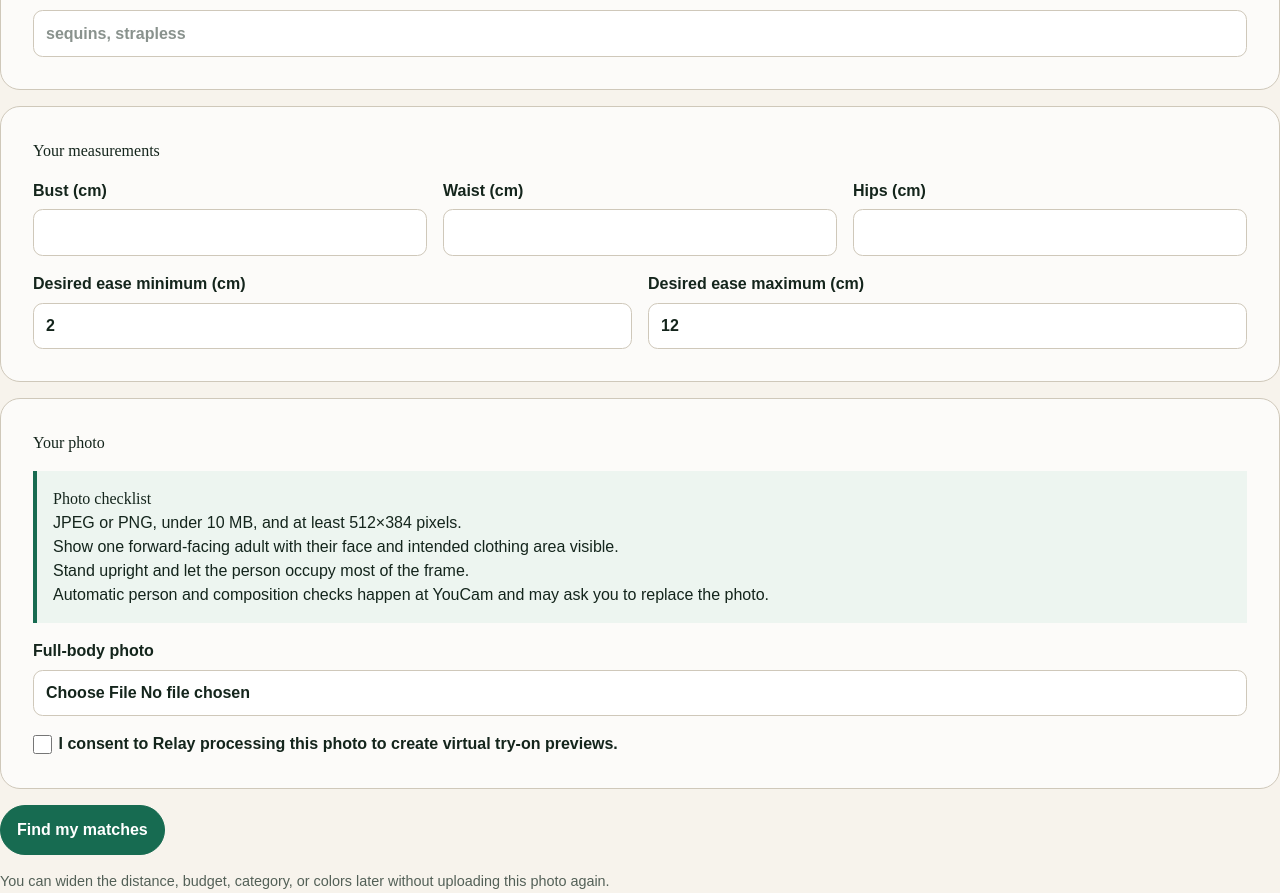
Test: BriefForm › shows inline errors and does not submit when required values are missing
(page scrolled)
Click the button "Find my matches".
click(82, 830)  # box left=0, top=806, right=165, bottom=856
(page scrolled)
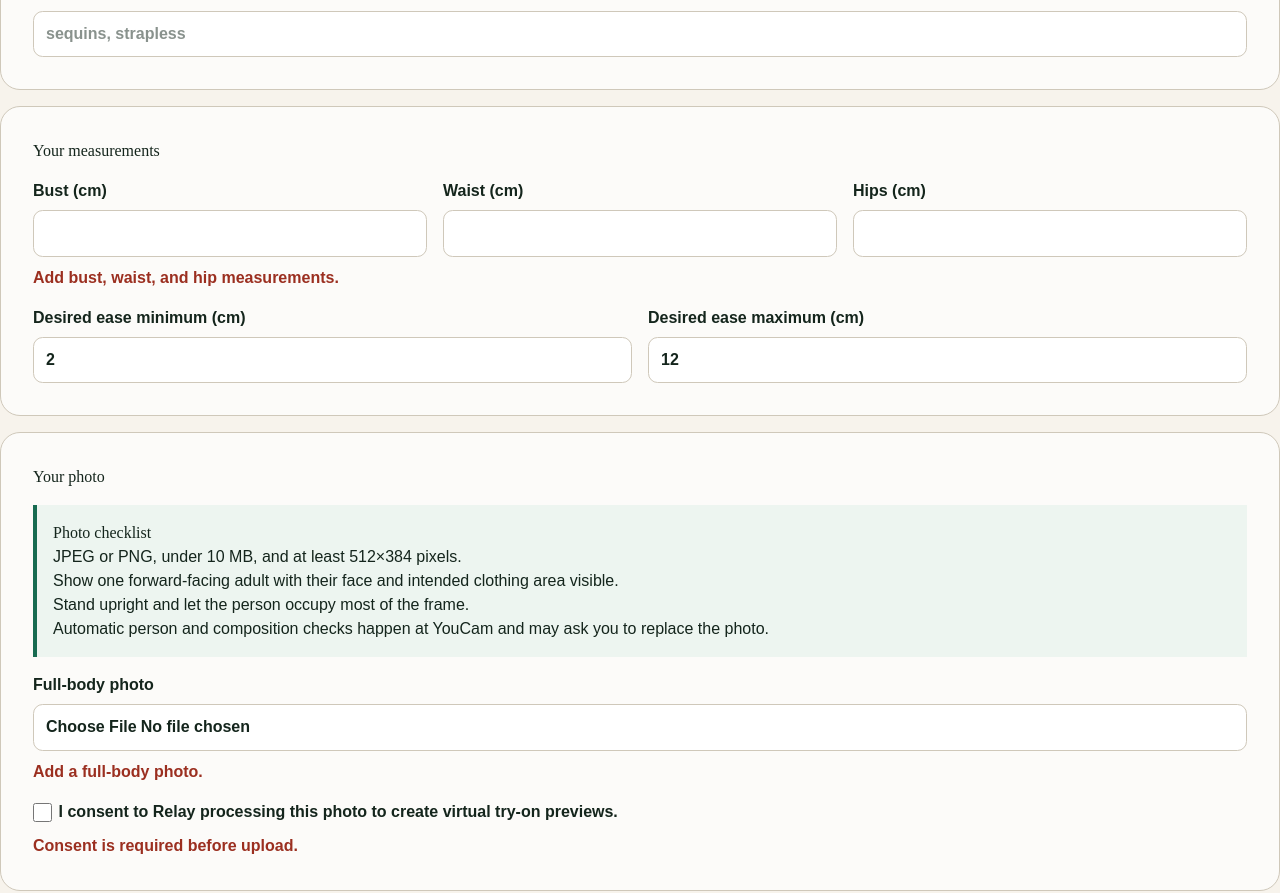
Check: the text "Add a full-body photo." is shown, box left=33, top=763, right=203, bottom=780
Check: the text "Consent is required before upload." is shown, box left=33, top=837, right=298, bottom=854
